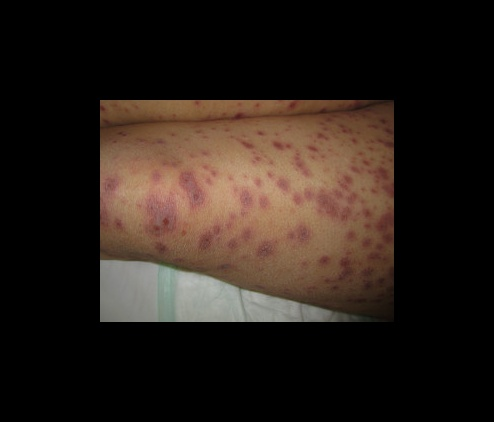SJS-TEN: (98, 98, 398, 327)
